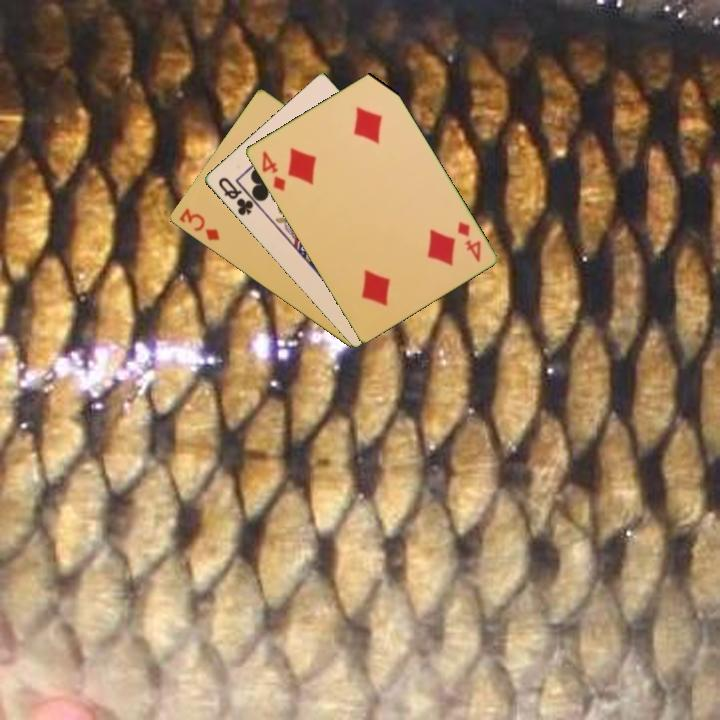3d: (175, 204, 223, 244)
4d: (453, 218, 484, 265), (258, 147, 288, 194)
Qc: (214, 173, 261, 219)
